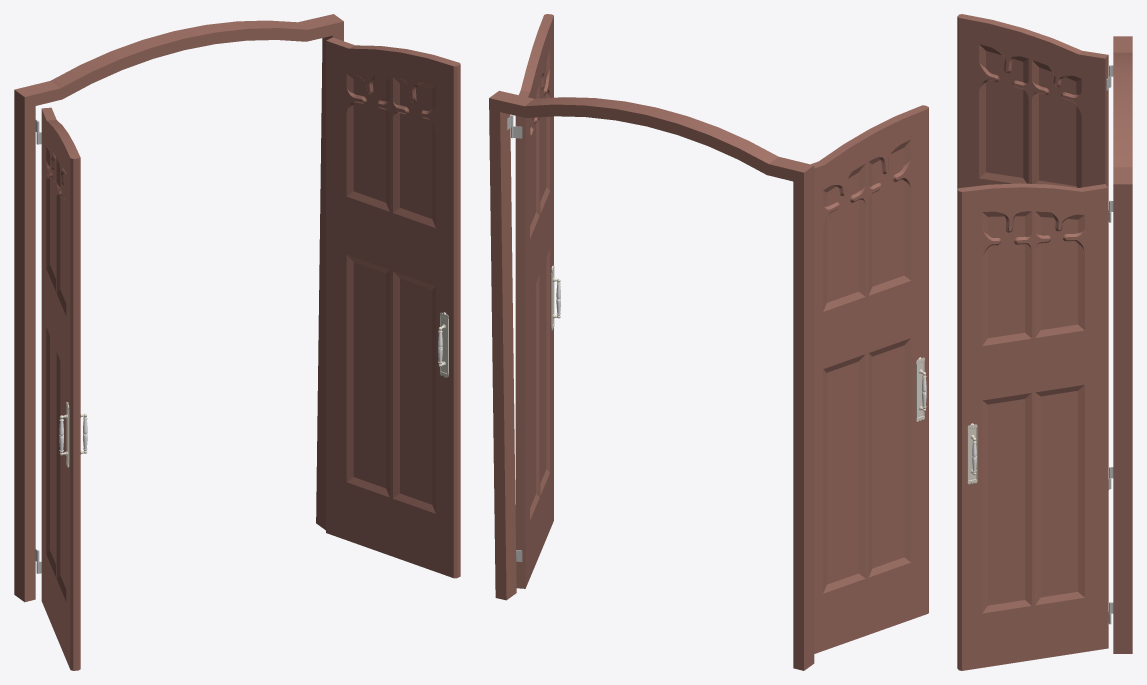
File: 374_両開きドア開.glb
3 renders of one model, left to right at view 1: azimuth 30°, elevation 25°; view 2: azimuth 150°, elevation 25°; view 3: azimuth 270°, elevation 25°, orthographic. The views are drawn at different scales.
Visible parts, largest first — view 1: ドア左, ドア枠, ドア右; view 2: ドア右, ドア枠, ドア左; view 3: ドア左, ドア右, ドア枠.
Boxes of the visible parts, x1=… form: ドア左: x1=326, y1=37, x2=460, y2=578; ドア枠: x1=14, y1=14, x2=343, y2=602; ドア右: x1=36, y1=107, x2=87, y2=670; ドア右: x1=811, y1=105, x2=928, y2=653; ドア枠: x1=489, y1=90, x2=814, y2=670; ドア左: x1=511, y1=14, x2=560, y2=588; ドア左: x1=957, y1=183, x2=1111, y2=670; ドア右: x1=957, y1=14, x2=1111, y2=489; ドア枠: x1=1109, y1=36, x2=1132, y2=653.
Bounding box in the file's own units: 1.8 × 2.27 × 0.7312.
